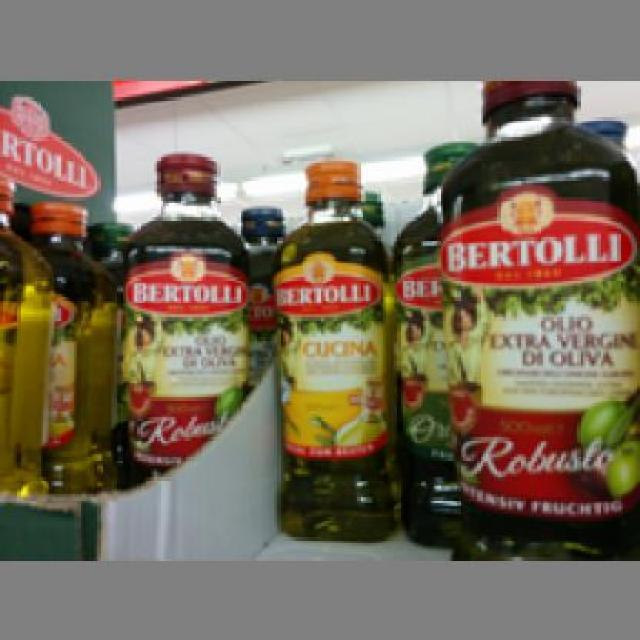Oil: (437, 77, 637, 554), (269, 157, 400, 532), (117, 150, 243, 487)
